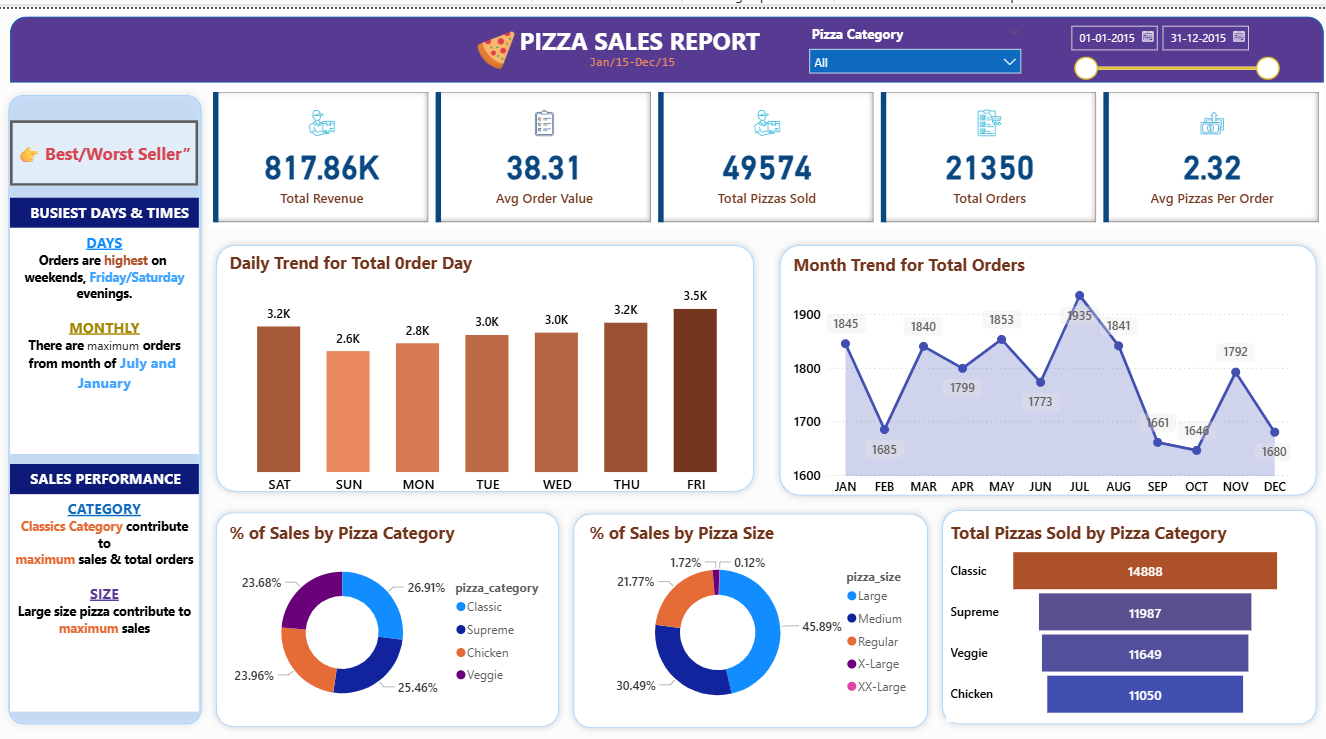

The page's visual inventory and layout, read from the dashboard file:
{"tool":"powerbi","page":{"name":"Home","canvas":[1500,820],"ordinal":0},"visuals":[{"type":"cardVisual","fields":{"Data":["pizza_sales.Total Revenue","pizza_sales.Avg Order Value","pizza_sales.Total Pizzas Sold","pizza_sales.Total Orders","pizza_sales.Avg Pizzas Per Order"]},"box":[249.3,87.7,1242.3,156],"z":0},{"type":"shape","box":[27.9,8.4,1463.7,73.8],"z":1000},{"type":"textbox","box":[590,12.5,305,52.5],"z":2000},{"type":"textbox","box":[428.8,365,321.2,127.5],"z":3000},{"type":"textbox","box":[668.8,45,112.5,28.8],"z":4000},{"type":"image","box":[538.6,20,61.4,52.9],"z":5000},{"type":"shape","title":"Daily Trend for Total Orders","box":[249.3,254.9,615.6,291.1],"z":6000},{"type":"columnChart","title":"Daily Trend for Total 0rder Day","fields":{"Category":["pizza_sales.0rder Day"],"Y":["pizza_sales.Total Orders"]},"box":[267.4,270.2,586.3,279.9],"z":7000},{"type":"shape","title":"Daily Trend for Total Orders","box":[877.4,254.9,614.2,295.2],"z":8000},{"type":"areaChart","title":"Month Trend for Total Orders","fields":{"Category":["pizza_sales.0rder Month"],"Y":["pizza_sales.Total Orders"]},"box":[895.5,271.6,564,279.9],"z":9000},{"type":"shape","title":"Daily Trend for Total Orders","box":[249.3,552.9,398.3,254.9],"z":10000},{"type":"shape","title":"Daily Trend for Total Orders","box":[18.1,87.7,231.2,717.2],"z":11000},{"type":"shape","title":"Daily Trend for Total Orders","box":[647.6,554.3,410.8,254.9],"z":12000},{"type":"shape","title":"Daily Trend for Total Orders","box":[1058.4,550.1,433.1,254.9],"z":13000},{"type":"donutChart","title":"% of Sales by Pizza Category","fields":{"Category":["pizza_sales.pizza_category"],"Y":["pizza_sales.Total Revenue"]},"box":[267.4,571,370.5,222.8],"z":14000},{"type":"donutChart","title":"% of Sales by Pizza Size","fields":{"Category":["pizza_sales.pizza_size"],"Y":["pizza_sales.Total Revenue"]},"box":[668.5,571,376,222.8],"z":15000},{"type":"funnel","title":"Total Pizzas Sold by Pizza Category ","fields":{"Category":["pizza_sales.pizza_category"],"Y":["pizza_sales.Total Pizzas Sold"]},"box":[1071,571,378.8,222.8],"z":16000},{"type":"textbox","box":[27.9,210.3,210.3,33.4],"z":17000},{"type":"textbox","box":[27.9,243.7,210.3,252.1],"z":18000},{"type":"textbox","box":[27.9,540.4,210.3,242.3],"z":19000},{"type":"textbox","box":[27.9,506.9,210.3,33.4],"z":20000},{"type":"slicer","fields":{"Values":["pizza_sales.pizza_category"]},"box":[908,12.5,256.3,69.6],"z":21000},{"type":"slicer","fields":{"Values":["pizza_sales.order_date"]},"box":[1197.7,8.4,252.1,79.4],"z":22000},{"type":"actionButton","box":[28.1,123.8,209.7,73.2],"z":23000}]}

Visuals, with their boxes in screenshot pixels (x1, y1, x2, y2), scaled from the page's 1500x820 canvas onto the 1326x739 screenshot:
cardVisual - pizza_sales.Total Revenue x pizza_sales.Avg Order Value: (x1=220, y1=79, x2=1319, y2=220)
shape: (x1=25, y1=8, x2=1319, y2=74)
textbox: (x1=522, y1=11, x2=791, y2=59)
textbox: (x1=379, y1=329, x2=663, y2=444)
textbox: (x1=591, y1=41, x2=691, y2=67)
image: (x1=476, y1=18, x2=530, y2=66)
"Daily Trend for Total Orders" shape: (x1=220, y1=230, x2=765, y2=492)
"Daily Trend for Total 0rder Day" columnChart: (x1=236, y1=244, x2=755, y2=496)
"Daily Trend for Total Orders" shape: (x1=776, y1=230, x2=1319, y2=496)
"Month Trend for Total Orders" areaChart: (x1=792, y1=245, x2=1290, y2=497)
"Daily Trend for Total Orders" shape: (x1=220, y1=498, x2=572, y2=728)
"Daily Trend for Total Orders" shape: (x1=16, y1=79, x2=220, y2=725)
"Daily Trend for Total Orders" shape: (x1=572, y1=500, x2=936, y2=729)
"Daily Trend for Total Orders" shape: (x1=936, y1=496, x2=1318, y2=725)
"% of Sales by Pizza Category" donutChart: (x1=236, y1=515, x2=564, y2=715)
"% of Sales by Pizza Size" donutChart: (x1=591, y1=515, x2=923, y2=715)
"Total Pizzas Sold by Pizza Category " funnel: (x1=947, y1=515, x2=1282, y2=715)
textbox: (x1=25, y1=190, x2=211, y2=220)
textbox: (x1=25, y1=220, x2=211, y2=447)
textbox: (x1=25, y1=487, x2=211, y2=705)
textbox: (x1=25, y1=457, x2=211, y2=487)
slicer - pizza_sales.pizza_category: (x1=803, y1=11, x2=1029, y2=74)
slicer - pizza_sales.order_date: (x1=1059, y1=8, x2=1282, y2=79)
actionButton: (x1=25, y1=112, x2=210, y2=178)
